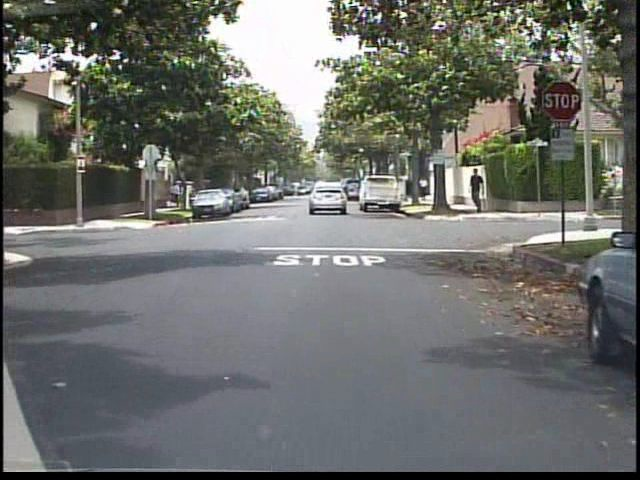person: (465, 164, 491, 218), (415, 172, 432, 205), (167, 179, 185, 209)
